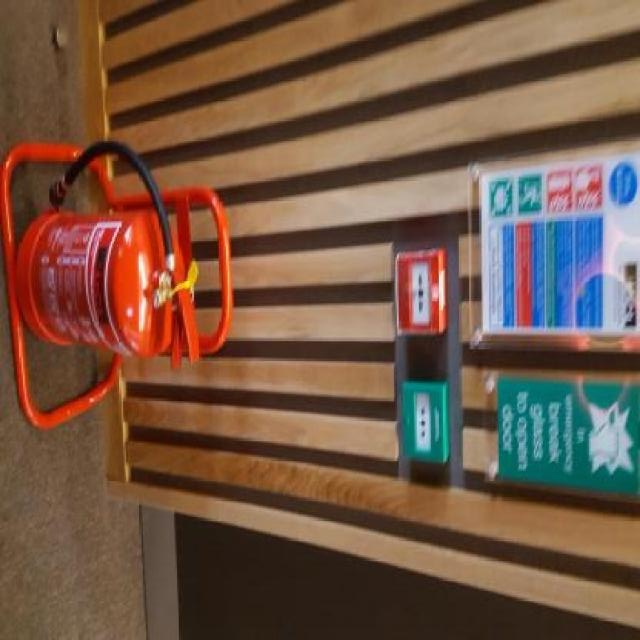fire extinguisher: (18, 141, 202, 364)
